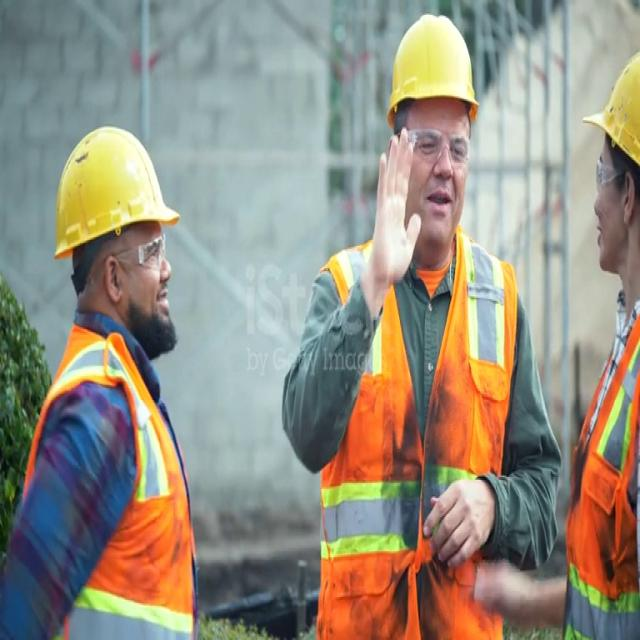capacete: (46, 115, 180, 263), (368, 6, 490, 127), (574, 34, 640, 175)
